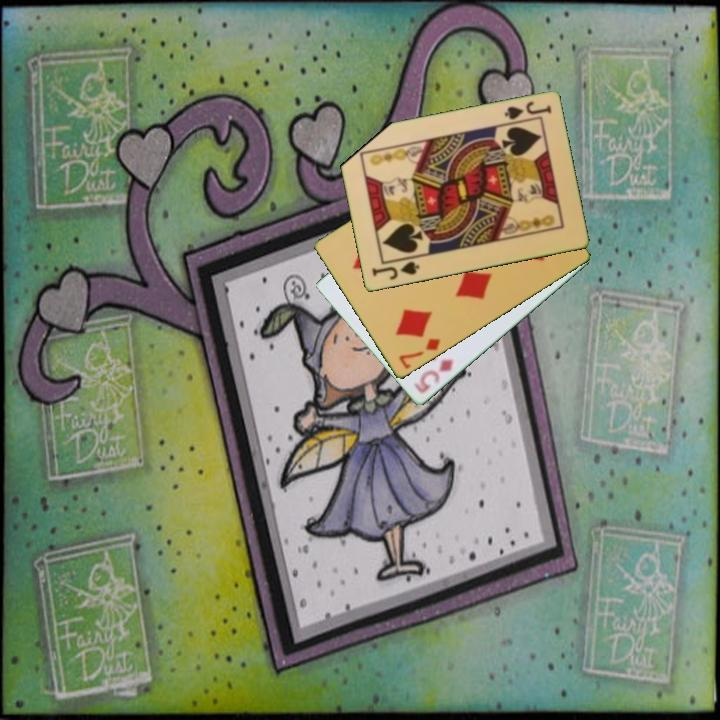5d: (410, 355, 456, 397)
7d: (395, 335, 443, 372)
Js: (368, 258, 422, 283), (500, 98, 554, 123)
